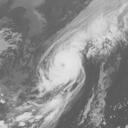cyclone: (36, 42, 86, 94)
